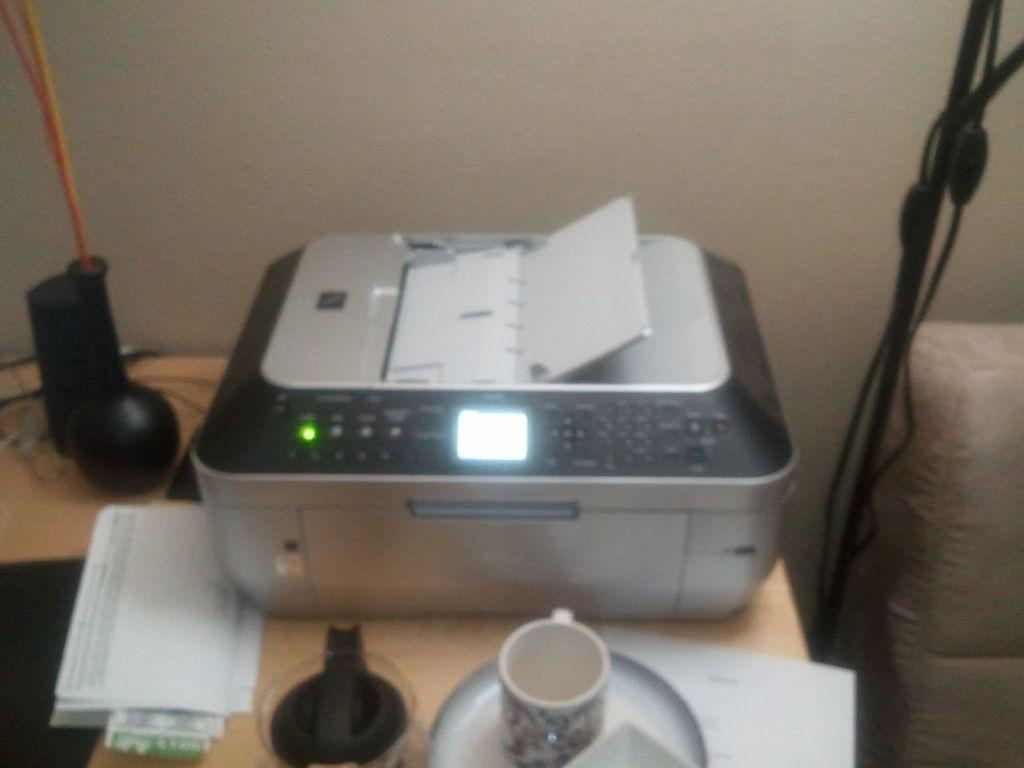Printer: (189, 194, 797, 623)
